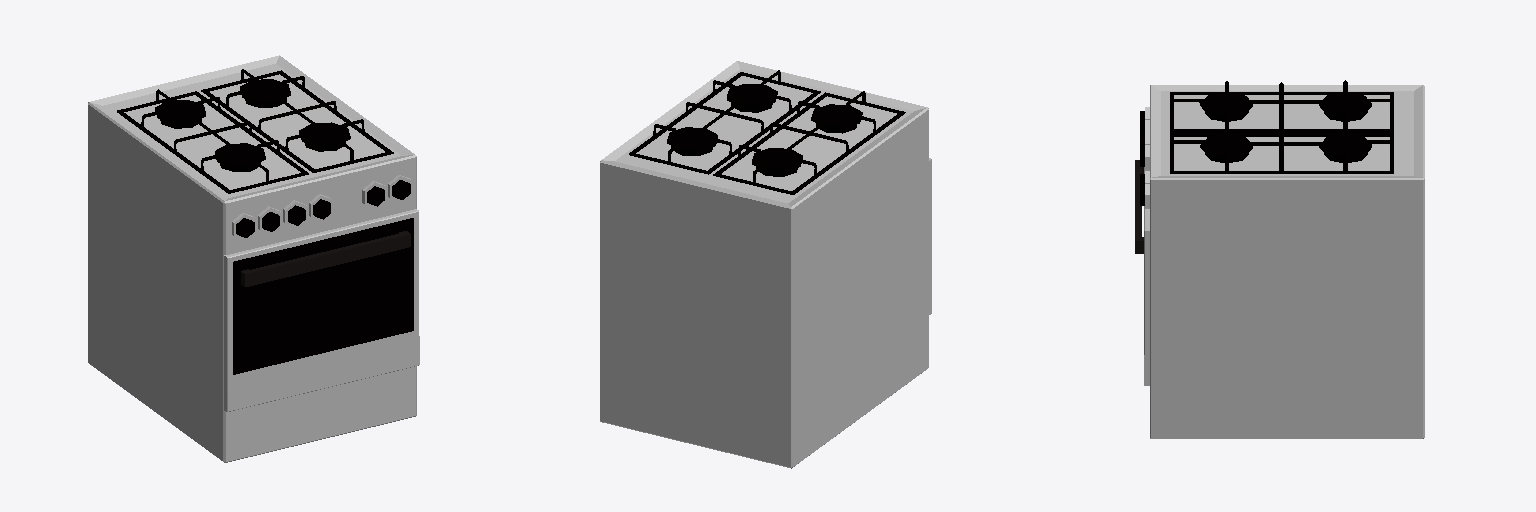
Rendered from GasStove1.obj.
3 views of the same model, side by side, from view 1: azimuth 30°, elevation 25°; view 2: azimuth 150°, elevation 25°; view 3: azimuth 270°, elevation 25° (orthographic).
Parts seen in each view (by area): view 1: GasStove1_Cube.012, Door1GasStove1_Cube.016; view 2: GasStove1_Cube.012; view 3: GasStove1_Cube.012, Door1GasStove1_Cube.016.
Part boxes in pixels (left/top/right/bottom): GasStove1_Cube.012: left=88, top=55, right=416, bottom=462; Door1GasStove1_Cube.016: left=224, top=209, right=419, bottom=411; GasStove1_Cube.012: left=600, top=61, right=928, bottom=468; GasStove1_Cube.012: left=1145, top=80, right=1424, bottom=438; Door1GasStove1_Cube.016: left=1135, top=160, right=1149, bottom=385.
Bounding box in the file's own units: 0.694 × 0.9381 × 0.9008.